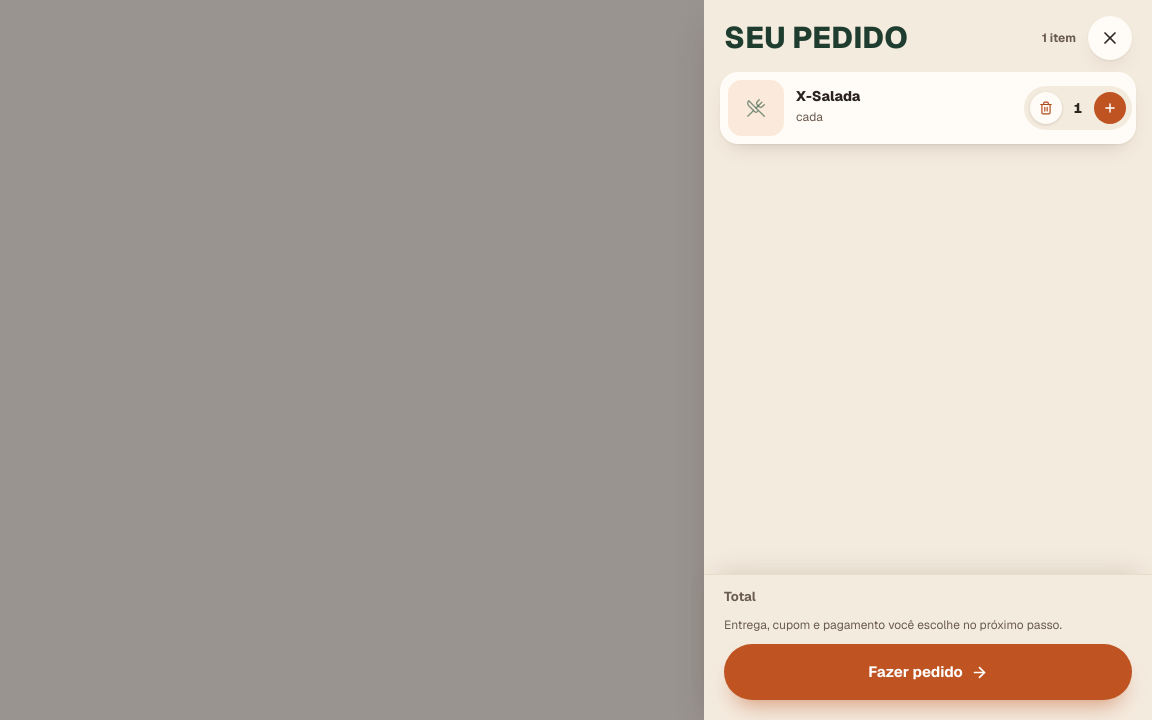
Test case: mudar quantidade pela gaveta › o menos na última unidade remove o item
This screenshot has width=1152, height=720.
Click the button named "Remover X-Salada" at [1046, 108], box x1=1024 y1=86 x2=1068 y2=130
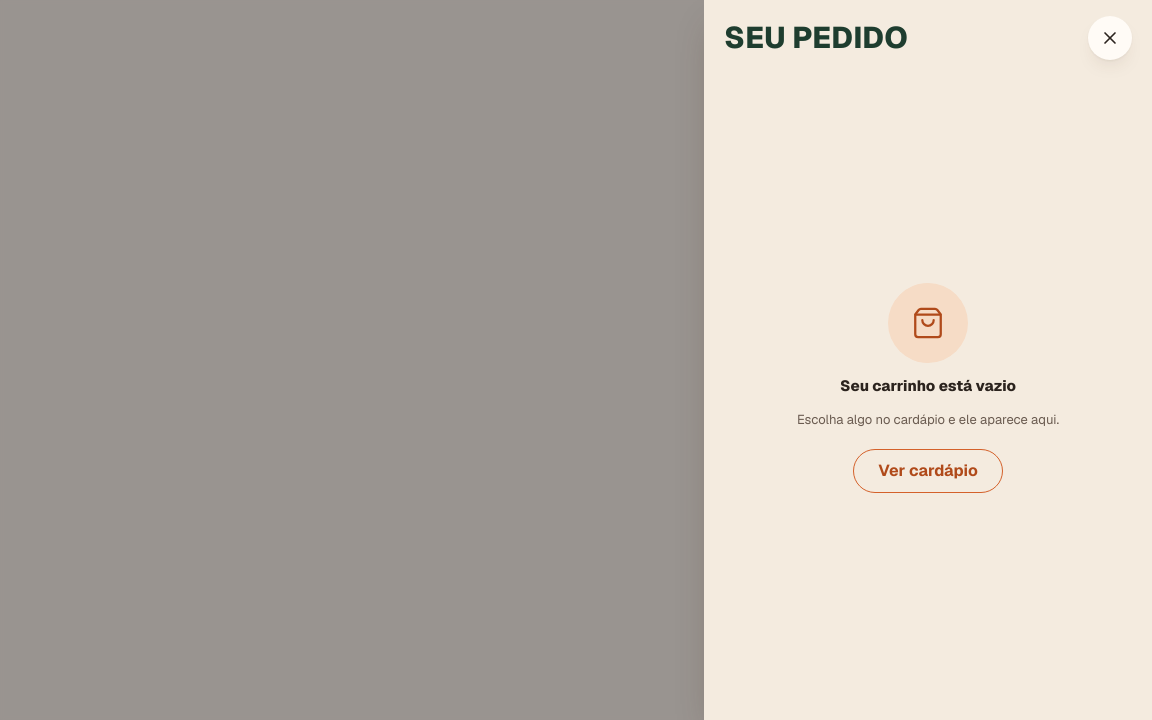
Expected: the text "Seu carrinho está vazio" is shown, x1=840 y1=375 x2=1016 y2=398
